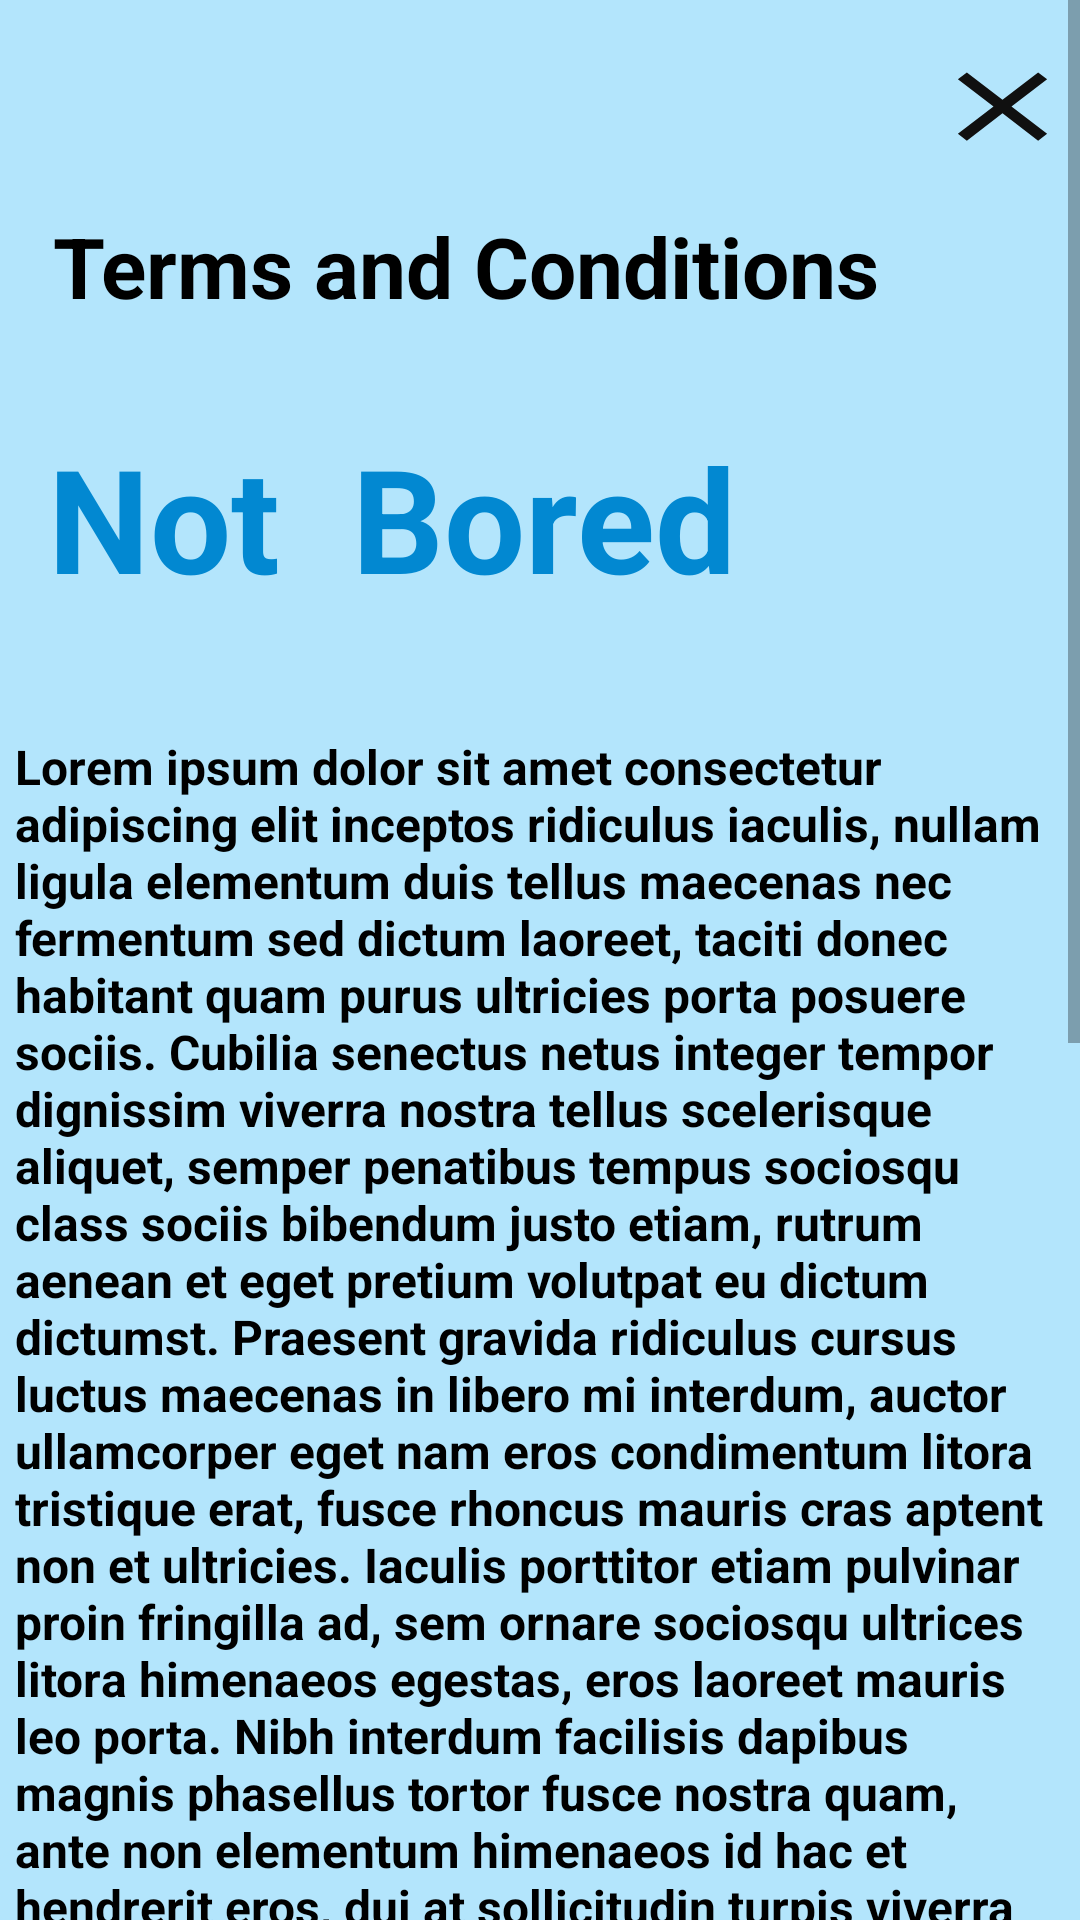

Icon click points for this 1080px×1920px phone screenshot, format (x=x, y=y):
close: (x=1002, y=106)
